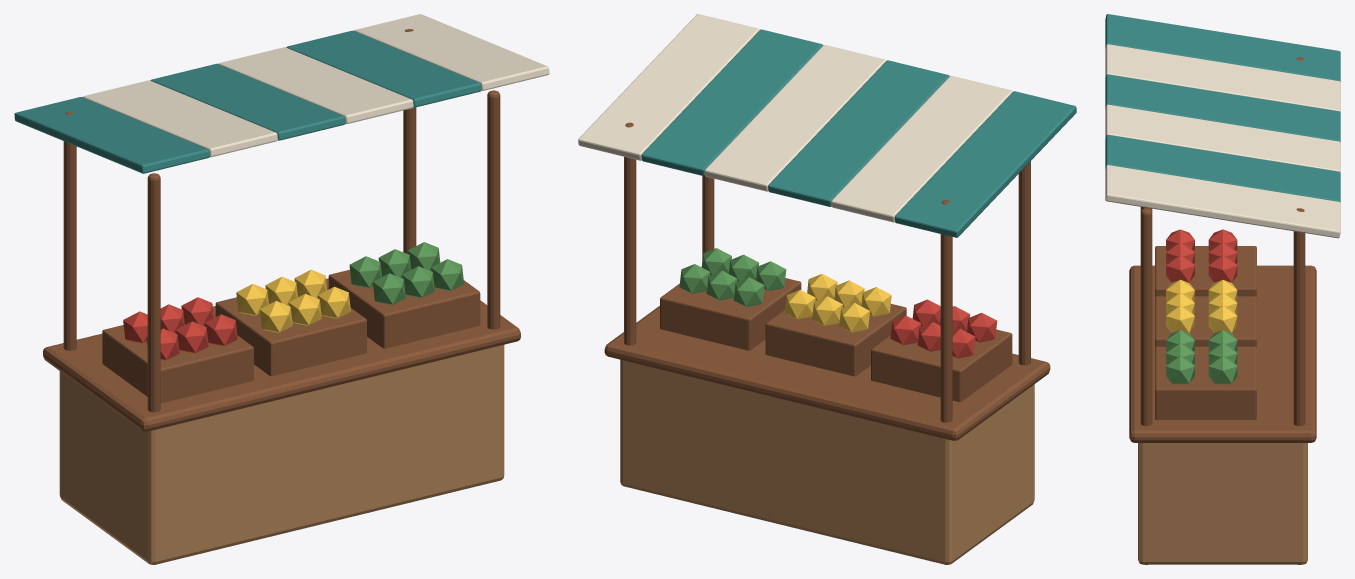
The model's file is market_stall.glb.
The picture shows the model from 3 angles, left to right: view 1: azimuth 30°, elevation 25°; view 2: azimuth 150°, elevation 25°; view 3: azimuth 270°, elevation 25°; orthographic projection. The views are drawn at different scales.
Visible parts, largest first — view 1: market_stall; view 2: market_stall; view 3: market_stall.
Boxes of the visible parts, <box> form: market_stall: <box>14,14,549,564</box>; market_stall: <box>578,14,1076,564</box>; market_stall: <box>1105,14,1340,564</box>.
Size of the model in its own units: 2.52 by 2.49 by 1.38.
